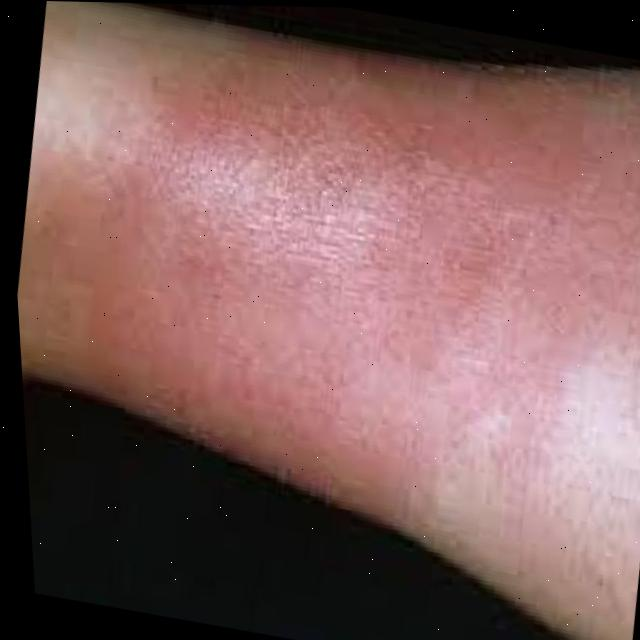Eczema: (15, 1, 640, 529)
